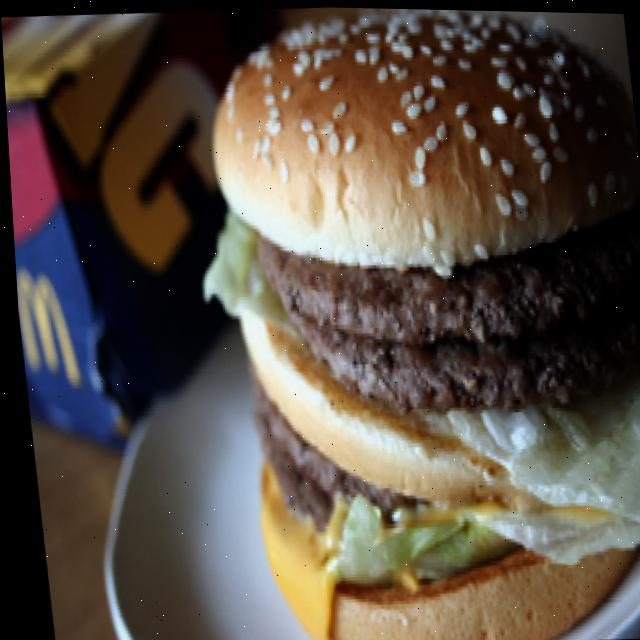汉堡快餐: (165, 3, 640, 640)
